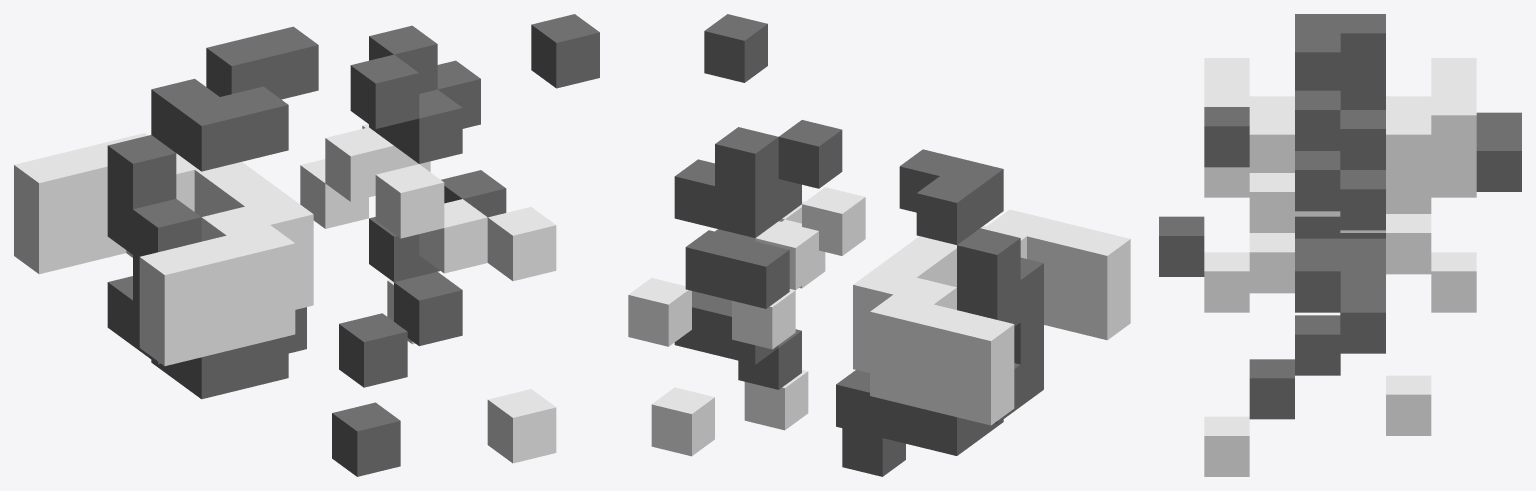
The model's file is broken_chain.obj.
3 renders of one model, left to right at view 1: azimuth 30°, elevation 25°; view 2: azimuth 150°, elevation 25°; view 3: azimuth 270°, elevation 25°, orthographic. The views are drawn at different scales.
Bounding box in the file's own units: 1 × 0.9 × 0.8.
1 material, 1 textured.
